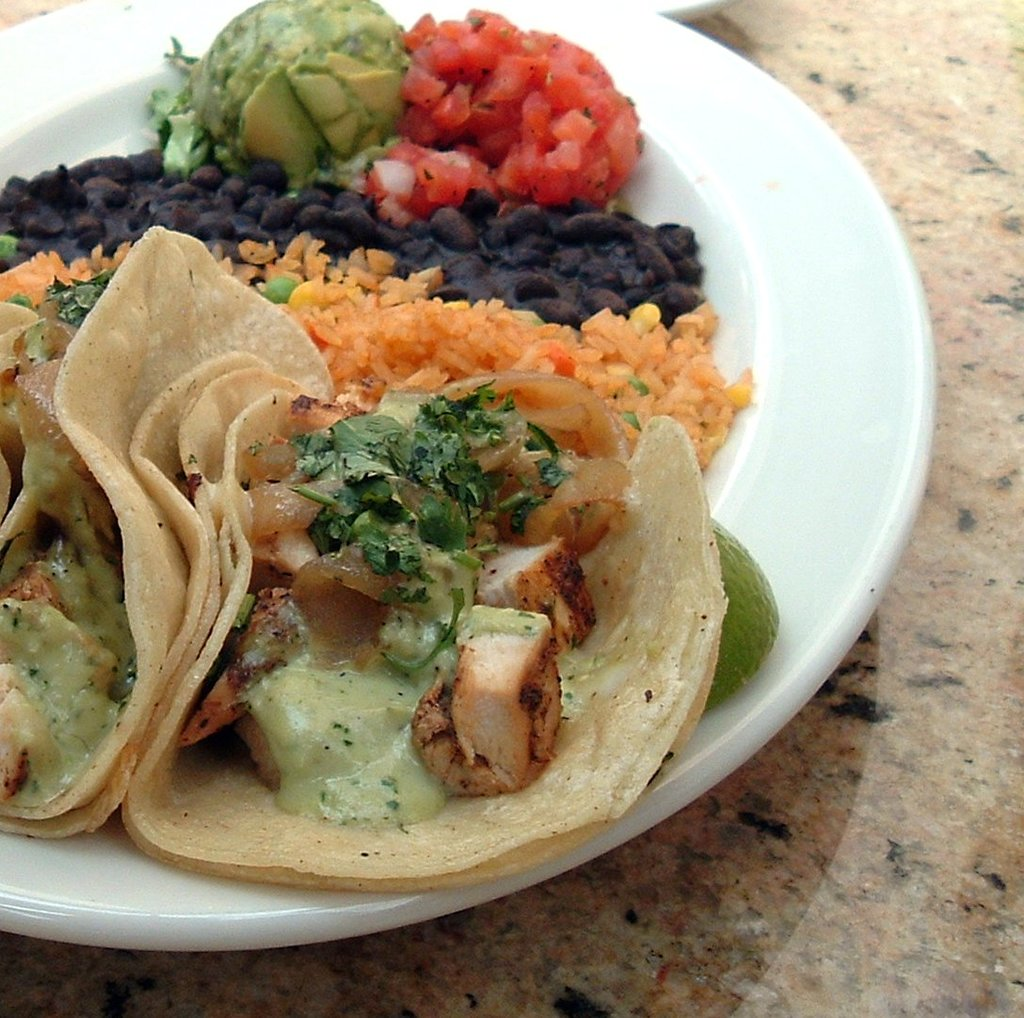taco: (123, 365, 730, 884), (119, 392, 728, 891), (0, 216, 337, 847)
